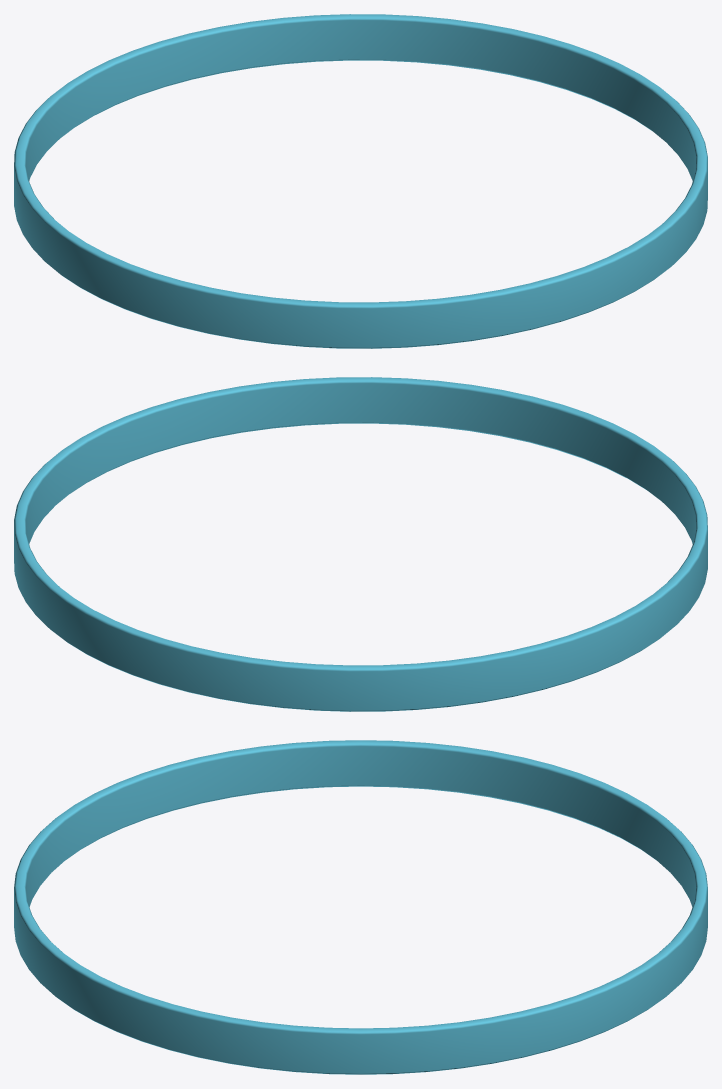
3 views of the same model, one above another, from view 1: azimuth 30°, elevation 25°; view 2: azimuth 150°, elevation 25°; view 3: azimuth 270°, elevation 25° (orthographic).
Parts seen in each view (by area): view 1: seal_body; view 2: seal_body; view 3: seal_body.
Part boxes in pixels (<box>): seal_body: <box>14,14,707,348</box>; seal_body: <box>14,377,707,711</box>; seal_body: <box>14,740,707,1074</box>.
Size of the model in its own units: 0.1841 by 0.0127 by 0.1841.
